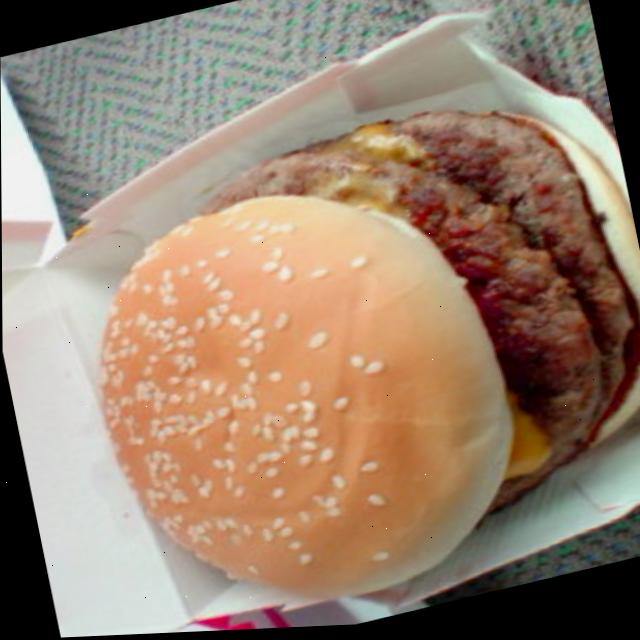汉堡快餐: (11, 148, 640, 640)
